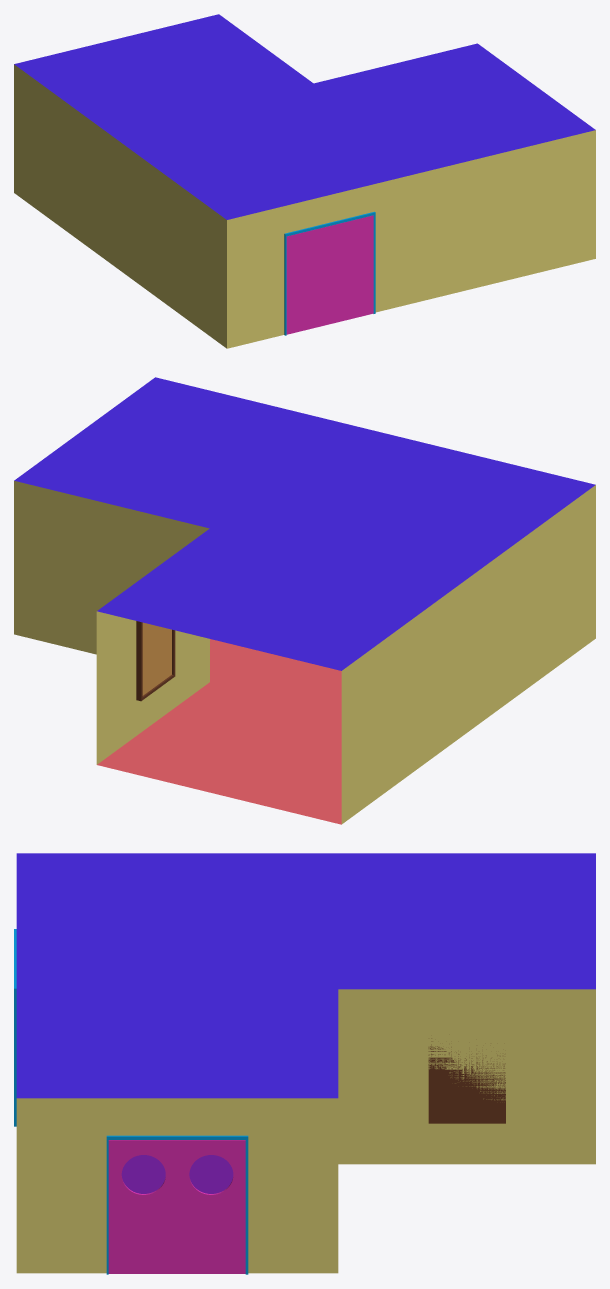
The model's file is ModularCorridor.fbx.
3 renders of one model, top to bottom at view 1: azimuth 30°, elevation 25°; view 2: azimuth 150°, elevation 25°; view 3: azimuth 270°, elevation 25°, orthographic. The views are drawn at different scales.
Visible parts, largest first — view 1: roof.001, wall2, roof.002, roof, wall1.001, wall2.001, wall2.002, doorRight, doorLeft, doorframe; view 2: roof.001, roof.002, roof, wall2.001, floor.002, wall1, wall2.002, wall1.002, floor.001, poster.002, floor; view 3: roof.001, wall1.002, wall3, roof, roof.002, doorRight.001, doorLeft.001, poster.002, doorframe.001, Window2, Window1, doorframe.
Boxes of the visible parts, <box> form: roof.001: <box>109,83,431,219</box>; wall2: <box>432,130,595,298</box>; roof.002: <box>14,14,313,133</box>; roof: <box>314,43,595,169</box>; wall1.001: <box>227,170,431,348</box>; wall2.001: <box>108,134,226,348</box>; wall2.002: <box>14,64,108,261</box>; doorRight: <box>286,226,330,334</box>; doorLeft: <box>330,215,373,323</box>; doorframe: <box>284,211,375,335</box>; roof.001: <box>210,425,595,587</box>; roof.002: <box>97,528,454,670</box>; roof: <box>14,377,350,528</box>; wall2.001: <box>454,485,595,741</box>; floor.002: <box>97,682,341,824</box>; wall1: <box>14,481,209,654</box>; wall2.002: <box>341,588,454,824</box>; wall1.002: <box>96,611,209,764</box>; floor.001: <box>210,649,341,714</box>; poster.002: <box>136,621,175,701</box>; floor: <box>210,639,253,681</box>; roof.001: <box>16,853,338,989</box>; wall1.002: <box>338,989,595,1164</box>; wall3: <box>16,1098,338,1273</box>; roof: <box>16,989,338,1098</box>; roof.002: <box>338,853,595,989</box>; doorRight.001: <box>108,1140,177,1273</box>; doorLeft.001: <box>177,1140,245,1273</box>; poster.002: <box>428,1038,505,1123</box>; doorframe.001: <box>106,1135,248,1274</box>; Window2: <box>189,1155,233,1193</box>; Window1: <box>121,1155,165,1193</box>; doorframe: <box>14,929,16,1126</box>.
Size of the model in its own units: 1808 by 601 by 1808.
